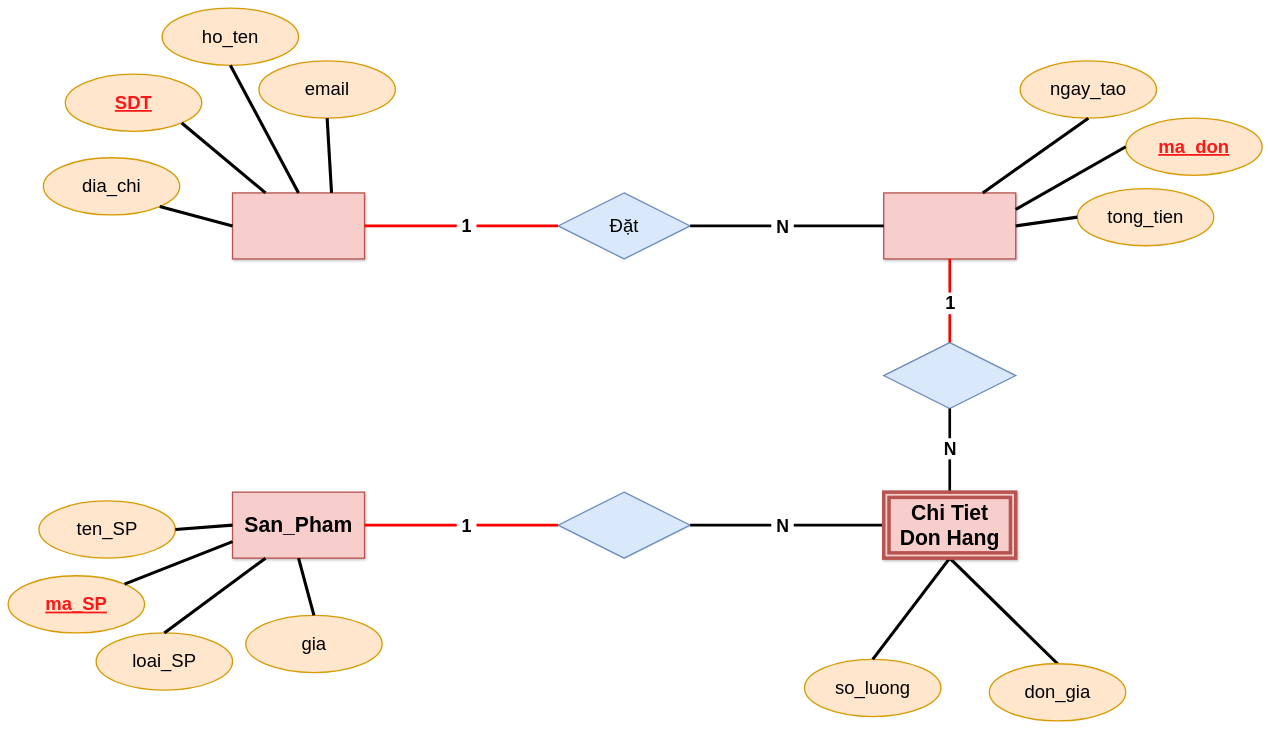
This 1270x729 diagram has some shape labels left out. Here are the shapes that lost their labels. From the top down, the centre of each, then its label:
point (299, 226): Khach_Hang
point (950, 226): Don_Hang
point (949, 375): Gồm
point (624, 525): Thuộc
